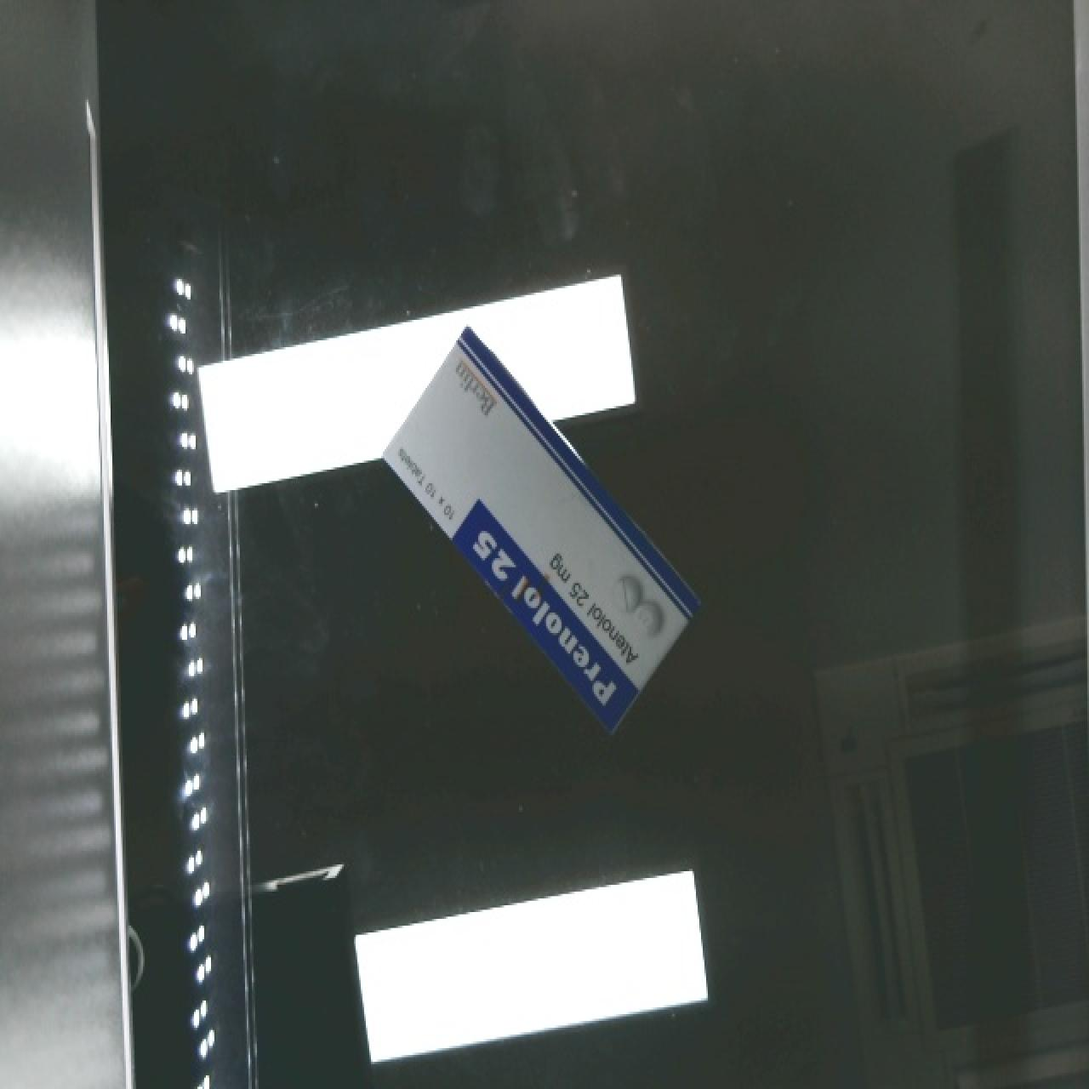medicine_label_obb: (442, 499, 645, 727)
